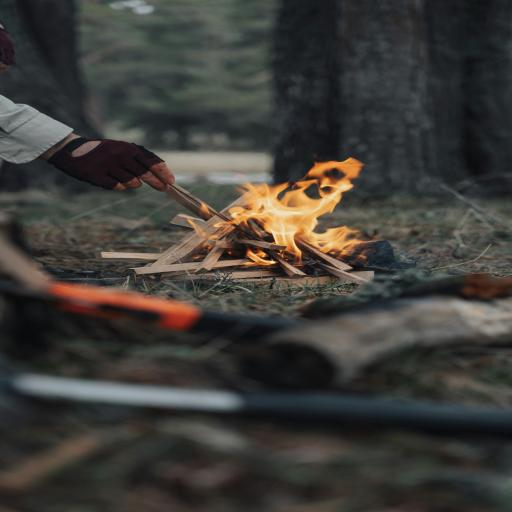campfire: (126, 152, 438, 292)
fire: (234, 167, 356, 217)
